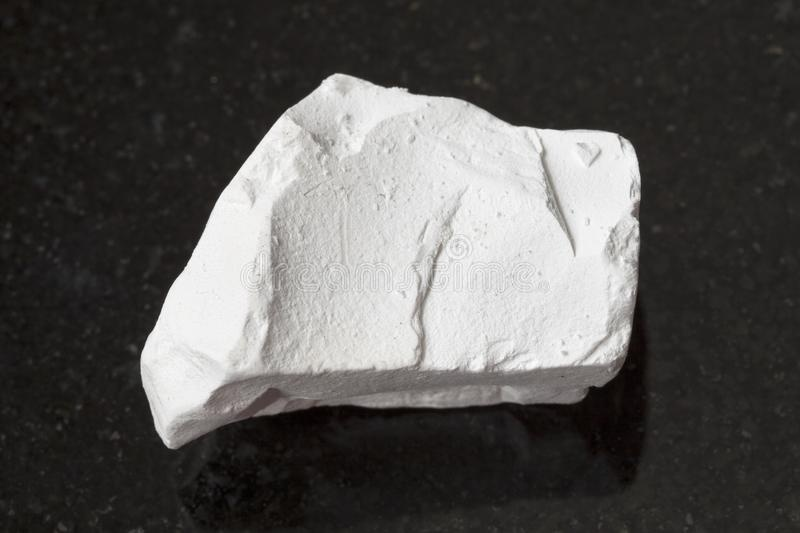obstacle: (141, 74, 639, 447)
